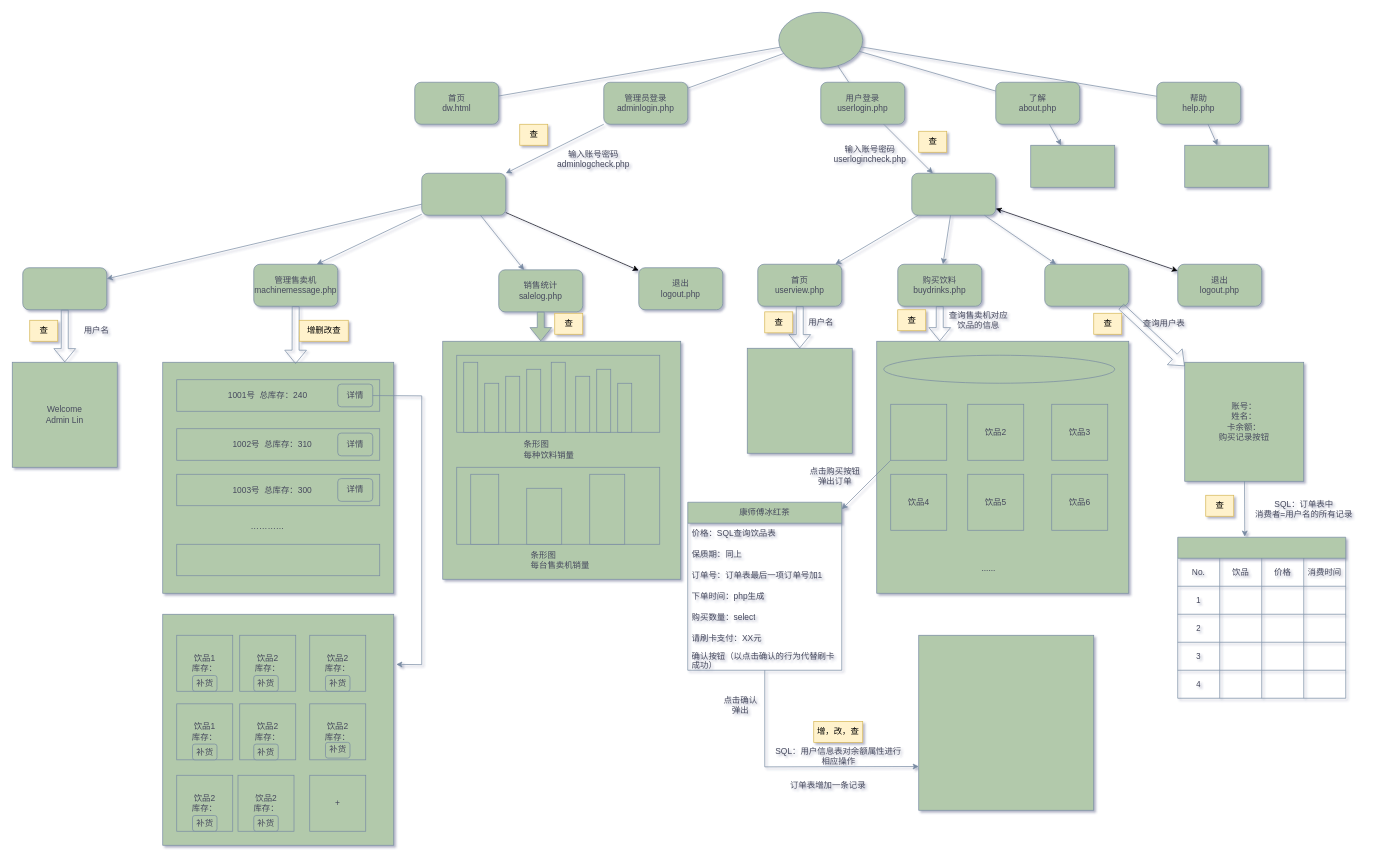
Some shapes in this 1376 by 862 pixel diagram are drawn without their labels. The box of each missing label's shape, as (x1, y1, x2, y2) in pixels:
+(添加新的机子): (176, 544, 380, 576)
call：管理员电话 email：管理员邮箱: (1184, 145, 1269, 187)
select售卖机位置: (883, 355, 1115, 383)
Welcome User Lin: (747, 348, 852, 453)
个人信息 personalmessage.php: (1044, 264, 1129, 306)
支付成功 感谢购买！！ 您的余额：: (918, 635, 1094, 810)
用户界面 userview.php: (911, 173, 996, 215)
管理员界面 adminview.html: (421, 173, 506, 215)
系统概况: (1030, 145, 1115, 187)
自动售卖机管理系统: (778, 12, 863, 68)
购买记录: (1177, 537, 1346, 698)
饮品1 库存 价格 购买按钮: (890, 404, 947, 460)
首页 welcome.php: (22, 267, 107, 310)
